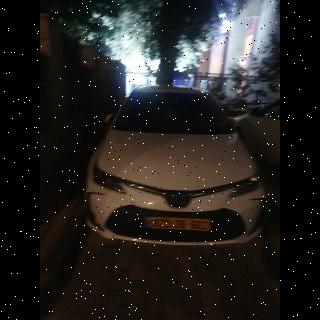LicensePlate: (151, 218, 210, 230)
